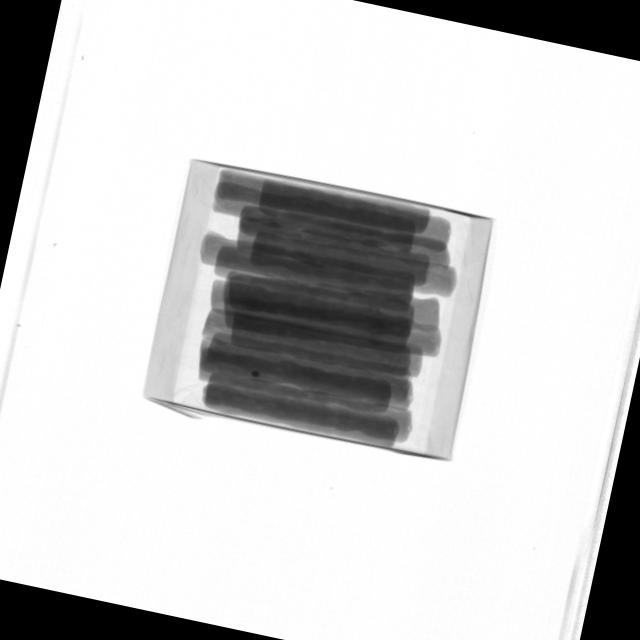ym: (251, 369, 263, 381)
